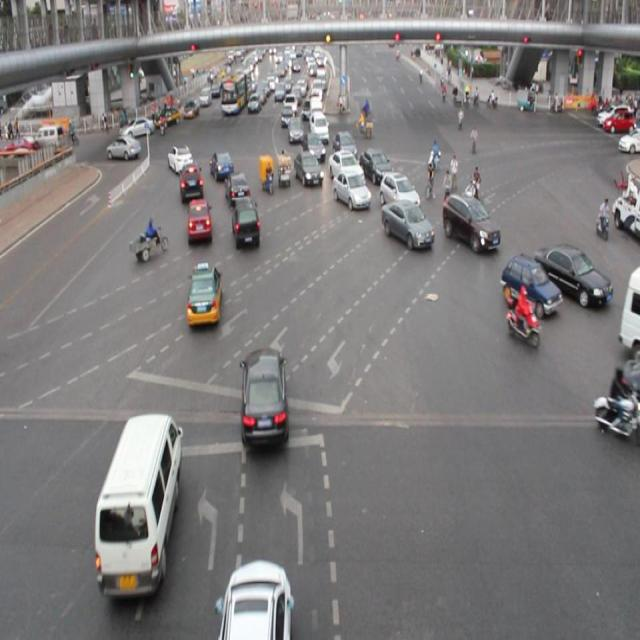car: (219, 558, 292, 640), (240, 344, 288, 450), (533, 245, 610, 305), (499, 255, 560, 312), (442, 192, 499, 250), (379, 197, 432, 251), (187, 264, 222, 324), (379, 171, 420, 212), (614, 355, 640, 418), (332, 168, 369, 211), (232, 198, 261, 250), (357, 146, 392, 184), (294, 150, 324, 188), (328, 149, 362, 182), (186, 198, 212, 241), (179, 164, 204, 202), (107, 135, 141, 162), (225, 168, 249, 206), (166, 144, 192, 175), (332, 129, 357, 161), (209, 149, 233, 180), (302, 132, 325, 162)
truck: (96, 410, 181, 596), (620, 268, 640, 353)
